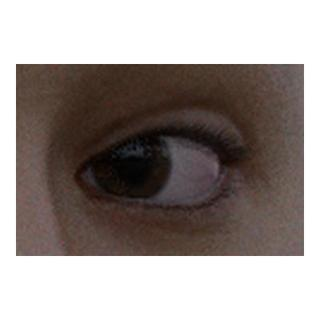pupil: (113, 147, 147, 181)
